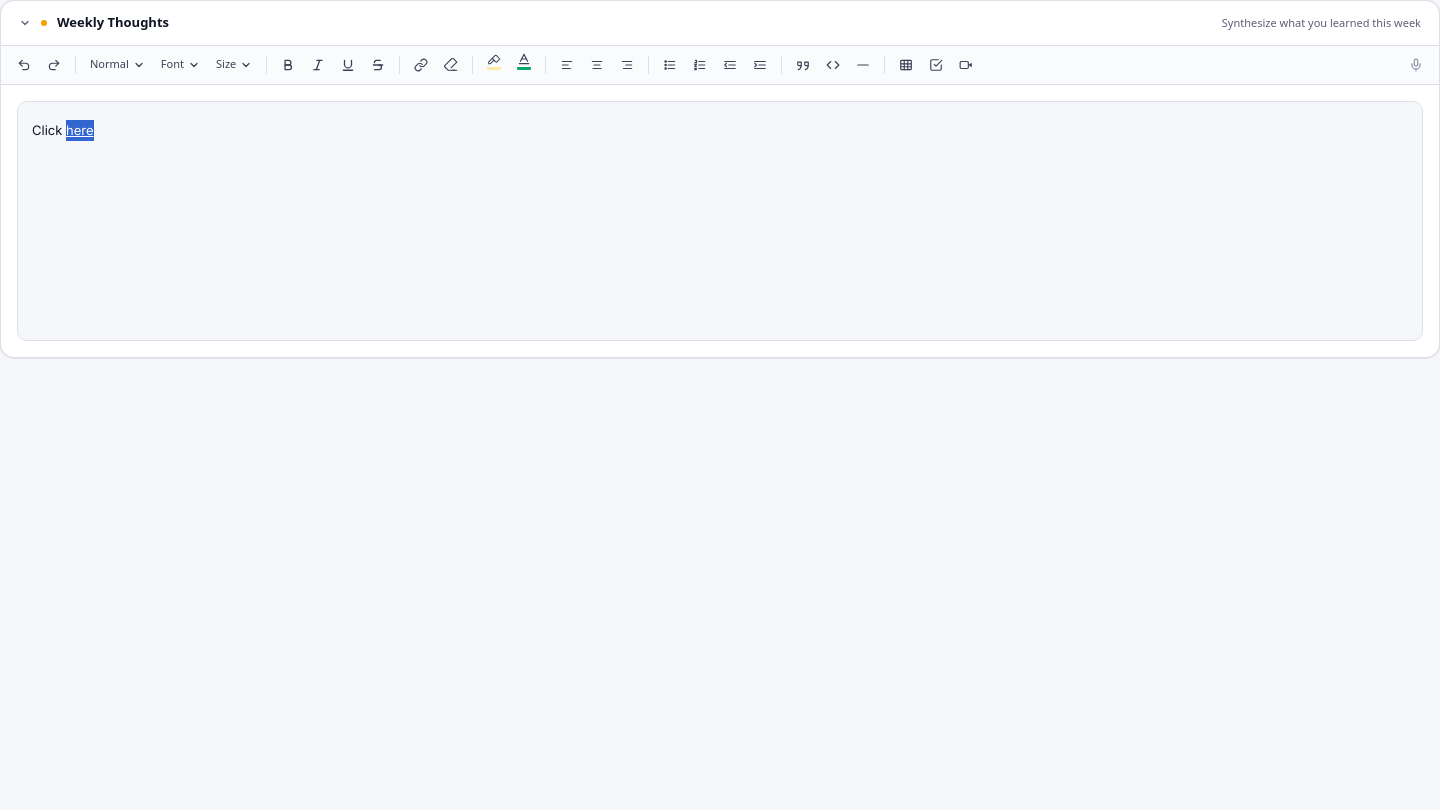
Test: WeeklyThoughts — Phase 3.5 expansion › Link popover prefills href when cursor is inside an existing <a>
Expected: the link "here" is shown, [66,122,94,138]
Click the button named "Insert link": (421, 64) [408,52,434,78]
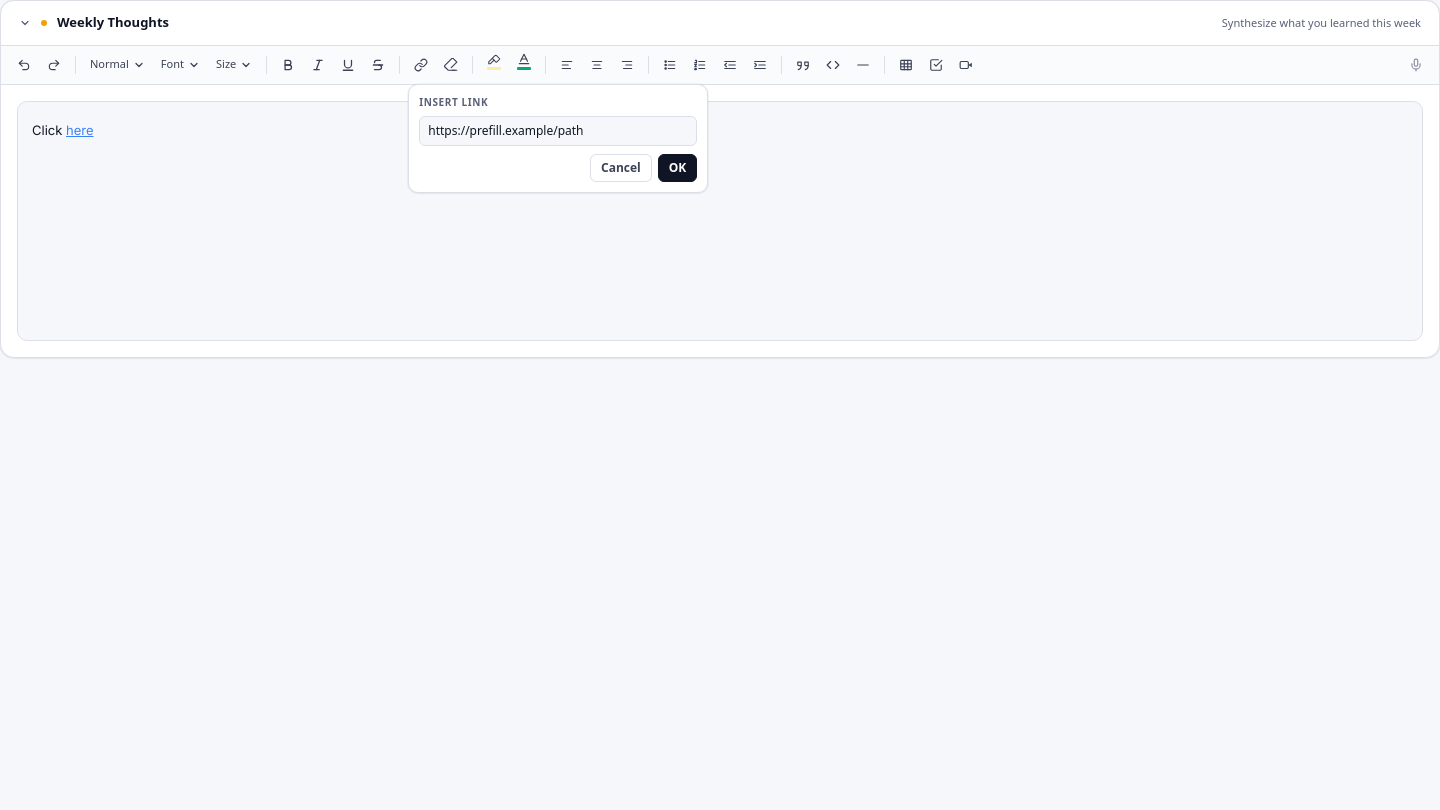
Expected: the field with placeholder "https://..." holds "https://prefill.example/path", [419,116,697,146]
